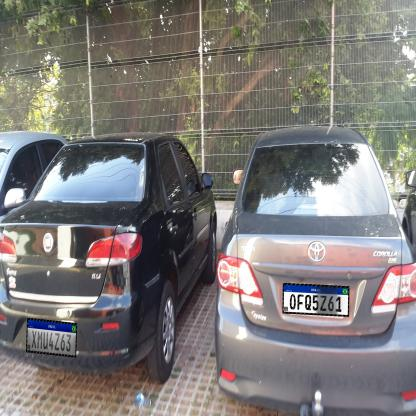PlacaM: (282, 283, 350, 317), (26, 318, 77, 357)
